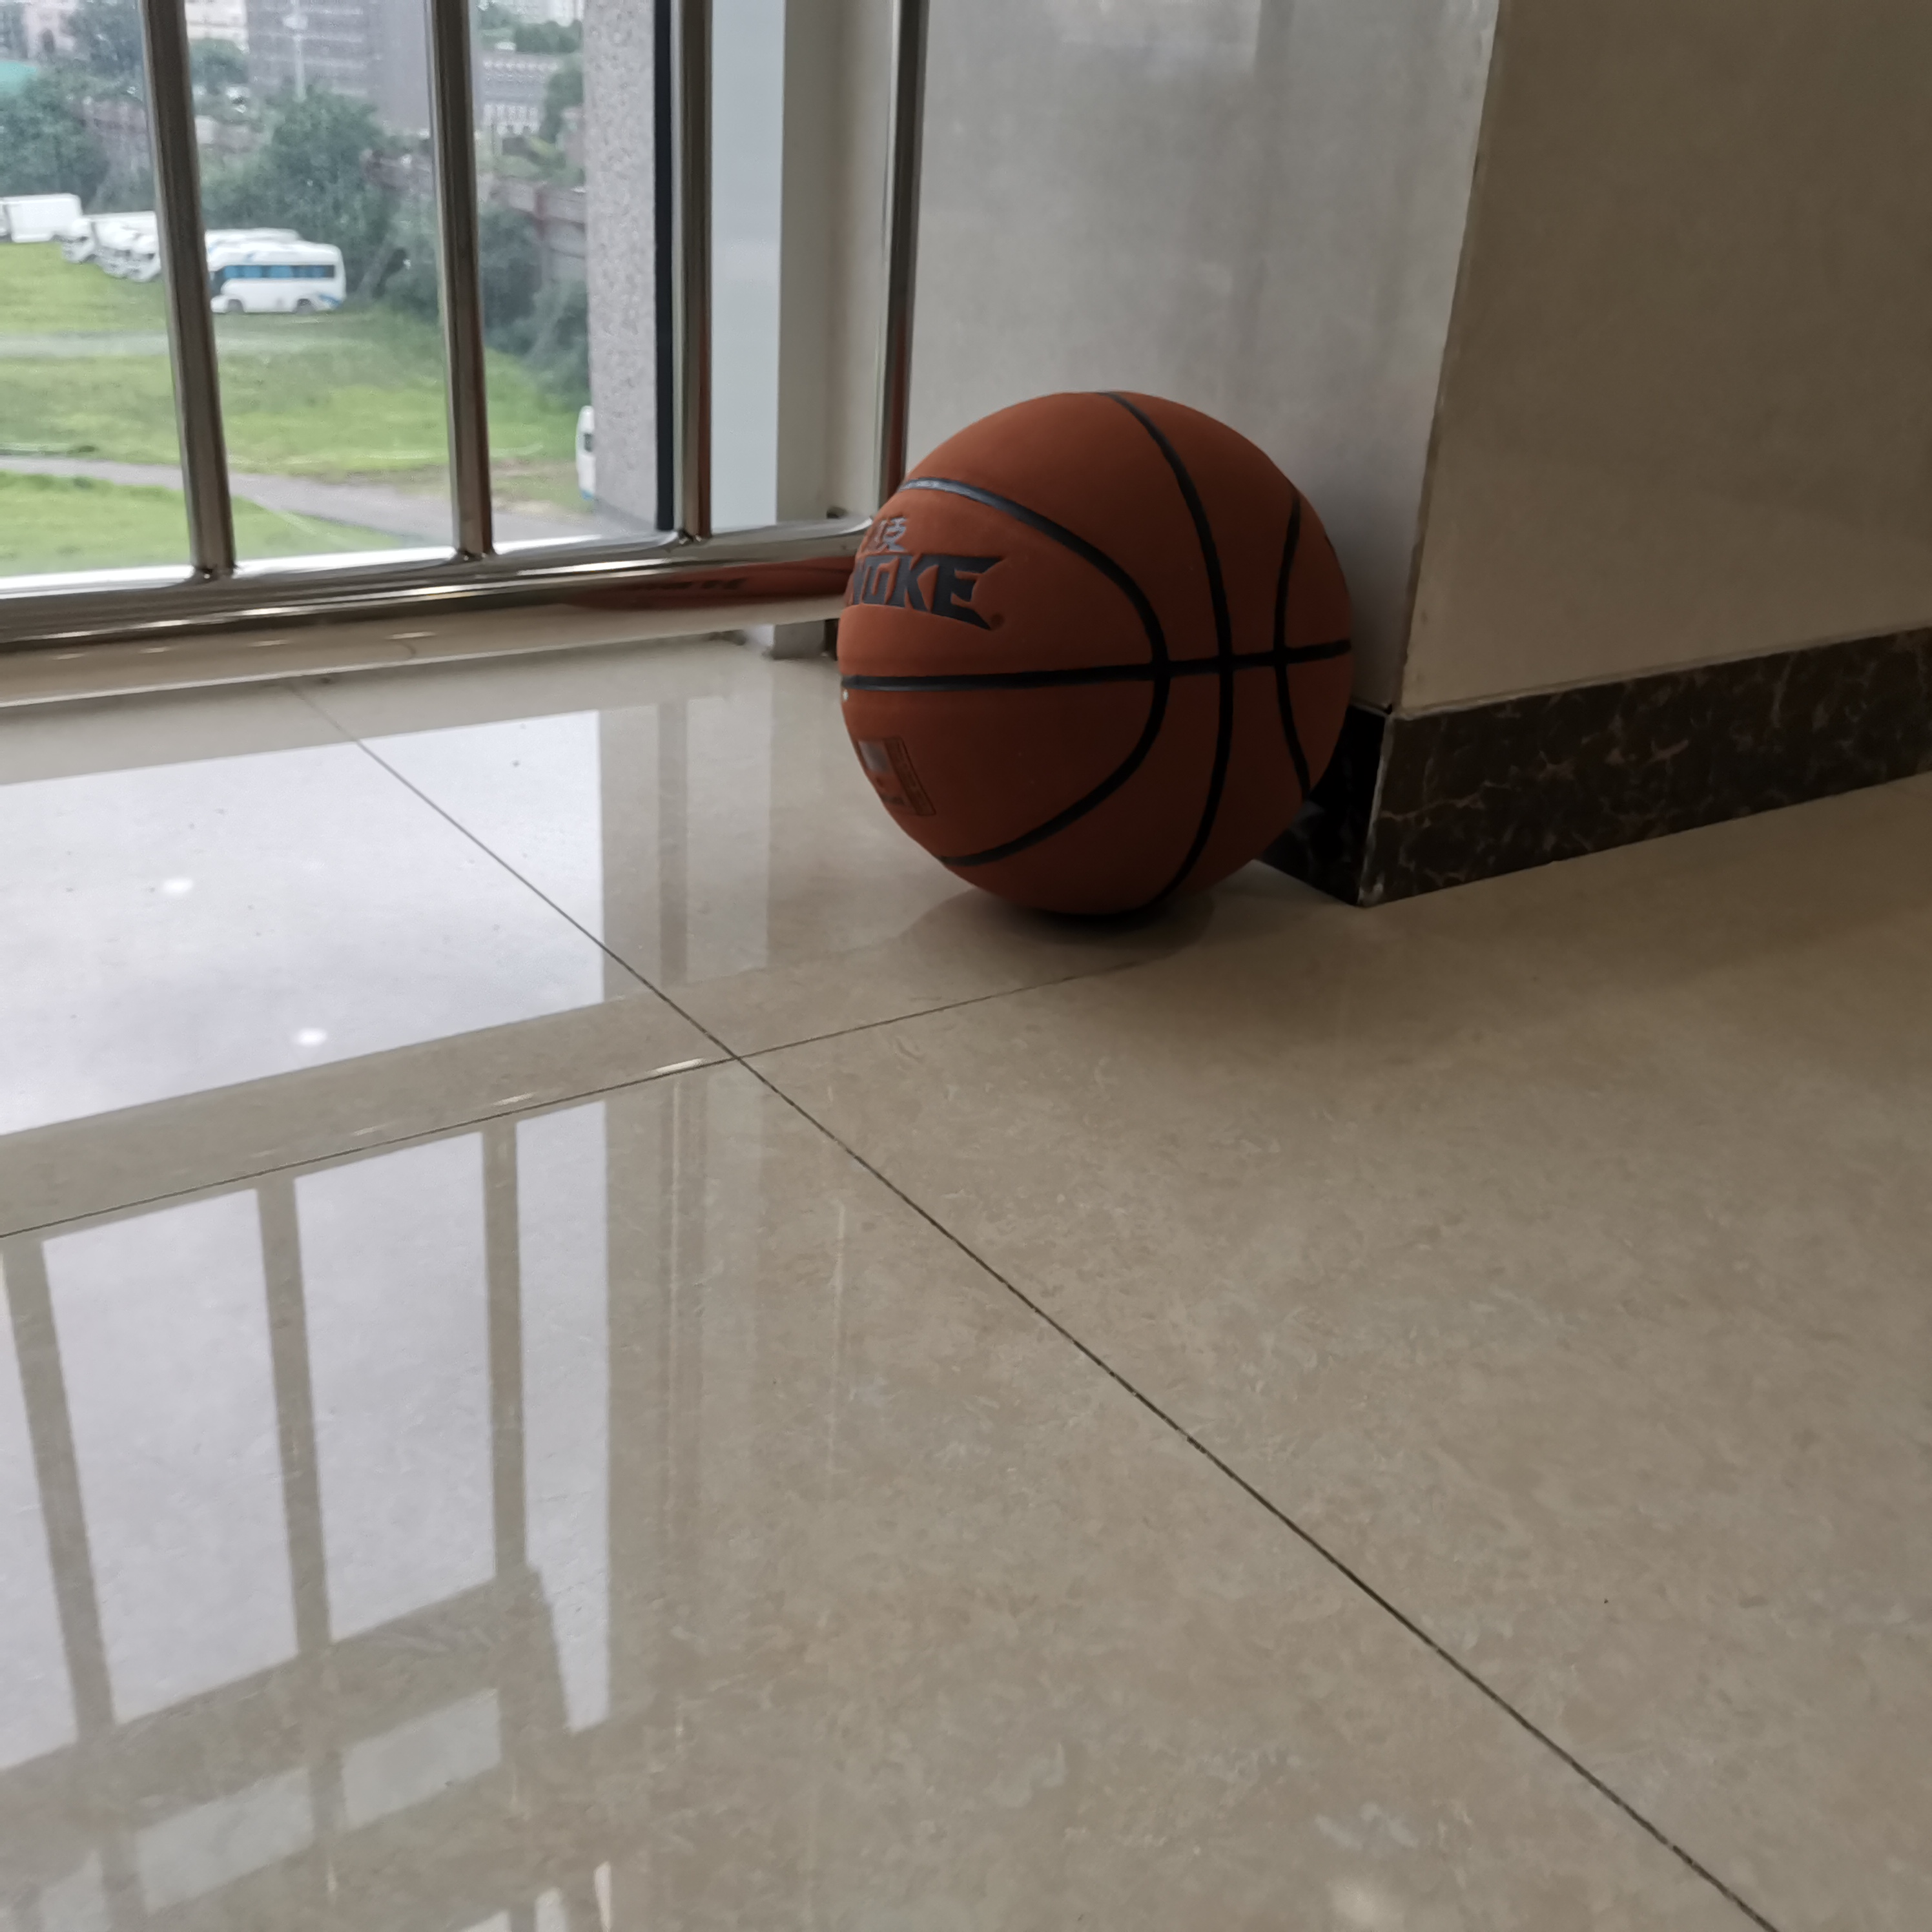basketball: (839, 395, 1361, 925)
